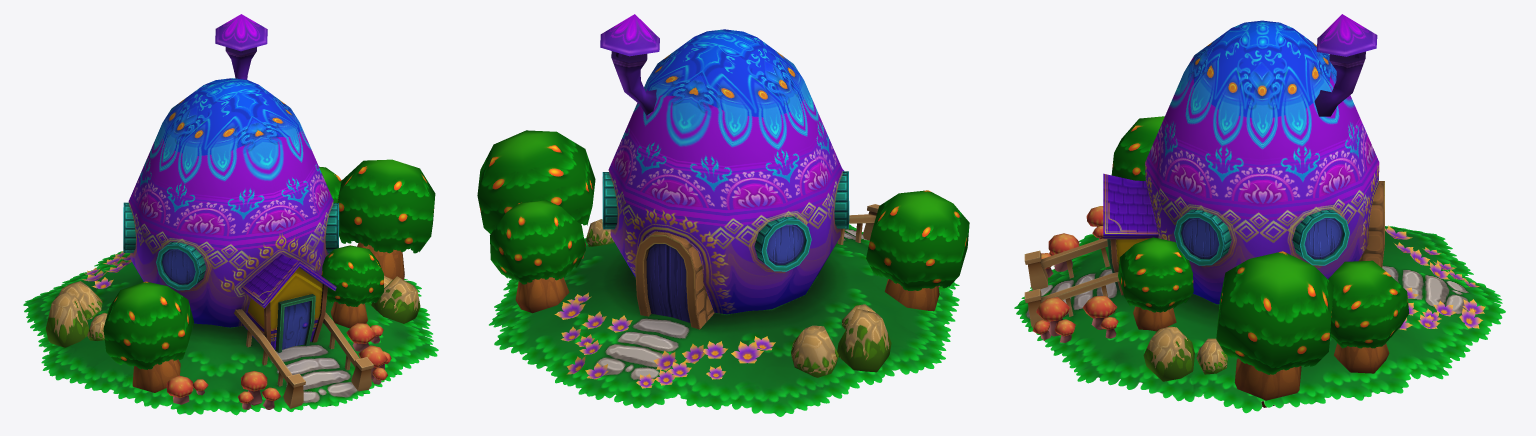
The model's file is Egg_House_03.FBX.
3 views of the same model, side by side, from view 1: azimuth 30°, elevation 25°; view 2: azimuth 150°, elevation 25°; view 3: azimuth 270°, elevation 25° (orthographic). The views are drawn at different scales.
Visible parts, largest first — view 1: Egg_House_03; view 2: Egg_House_03; view 3: Egg_House_03.
Boxes of the visible parts, bbox=[...] form: Egg_House_03: bbox=[23, 14, 438, 415]; Egg_House_03: bbox=[477, 14, 969, 416]; Egg_House_03: bbox=[1014, 14, 1505, 413].
Bounding box in the file's own units: 485 × 323 × 467.
